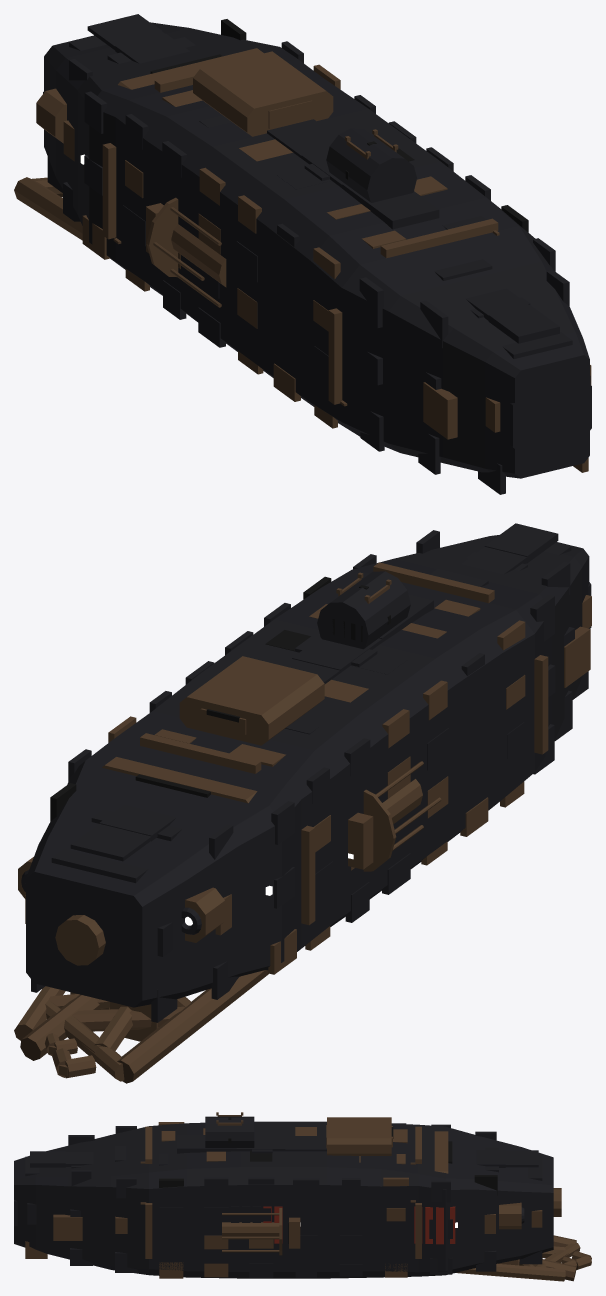
3 views of the same model, one above another, from view 1: azimuth 30°, elevation 25°; view 2: azimuth 150°, elevation 25°; view 3: azimuth 270°, elevation 25° (orthographic). The views are drawn at different scales.
Parts seen in each view (by area): view 1: RIMWARD_HULL; view 2: RIMWARD_HULL; view 3: RIMWARD_HULL.
Boxes of the visible parts, x1=… form: RIMWARD_HULL: x1=14, y1=14, x2=591, y2=494; RIMWARD_HULL: x1=14, y1=523, x2=591, y2=1083; RIMWARD_HULL: x1=14, y1=1112, x2=591, y2=1281.
Bounding box in the file's own units: 3.57 × 3.46 × 11.78.
